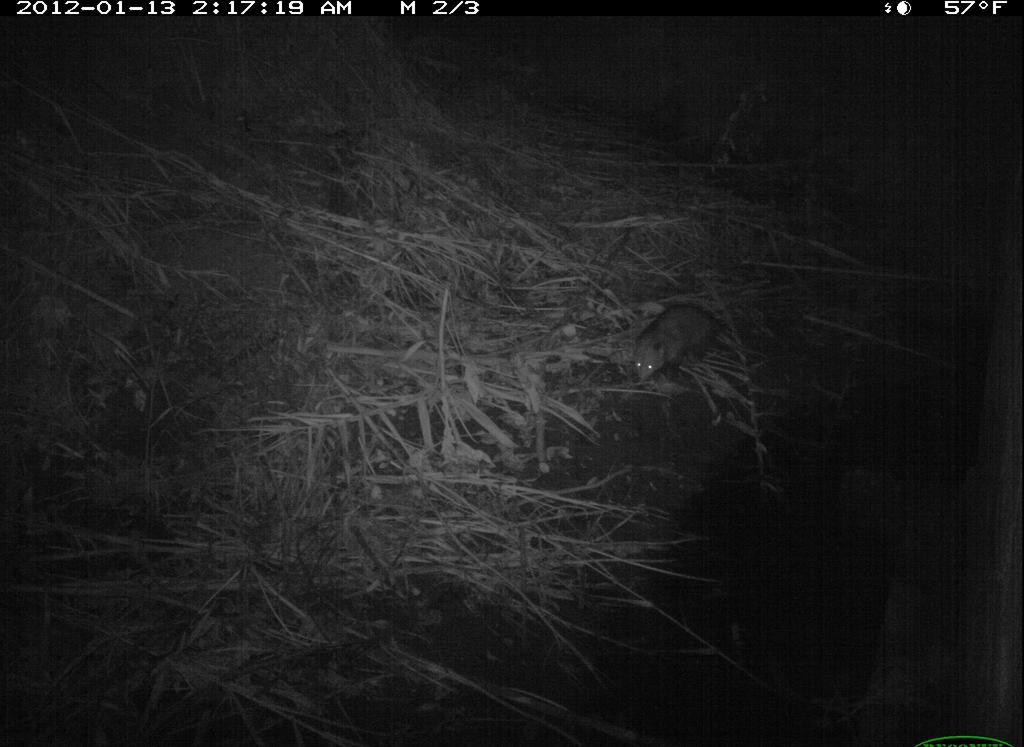opossum: (602, 290, 740, 400)
